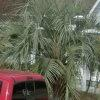Palm tree: (21, 1, 94, 69)
